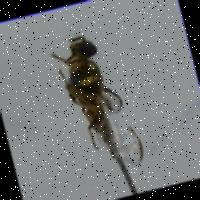Oriental-fruit-fly: (29, 16, 160, 184)
